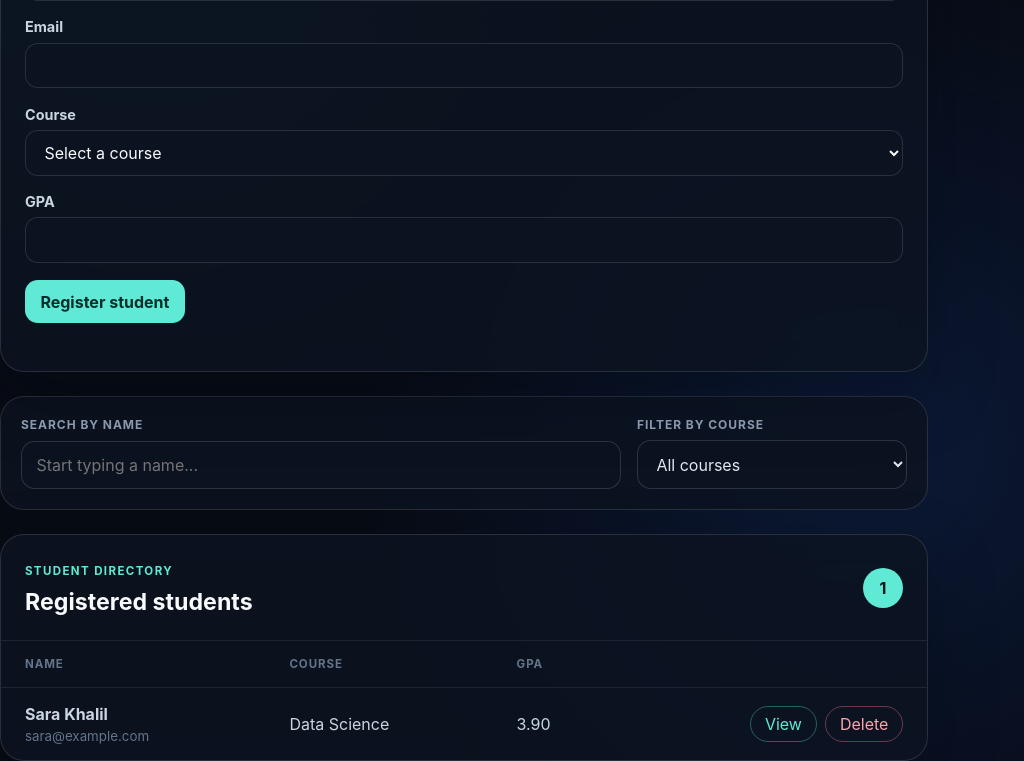
StudentDashboard › loads saved students and opens their details modal
This screenshot has width=1024, height=761.
(page scrolled)
Click the button with aria-label "View Sara Khalil" at (783, 724), box [750, 706, 816, 742]
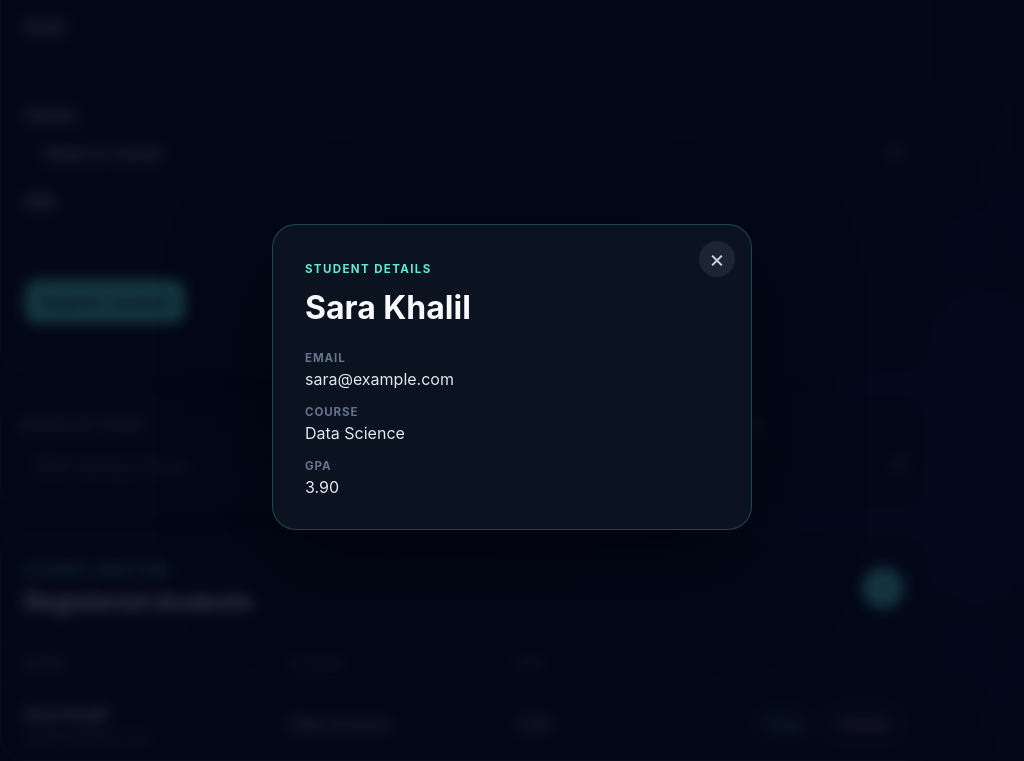
expect the dialog shows "Sara Khalil": met, box [305, 288, 471, 327]
expect the dialog shows "sara@example.com": met, box [305, 369, 454, 389]
Click the button named "Close student details" at (717, 259), box [699, 241, 735, 277]
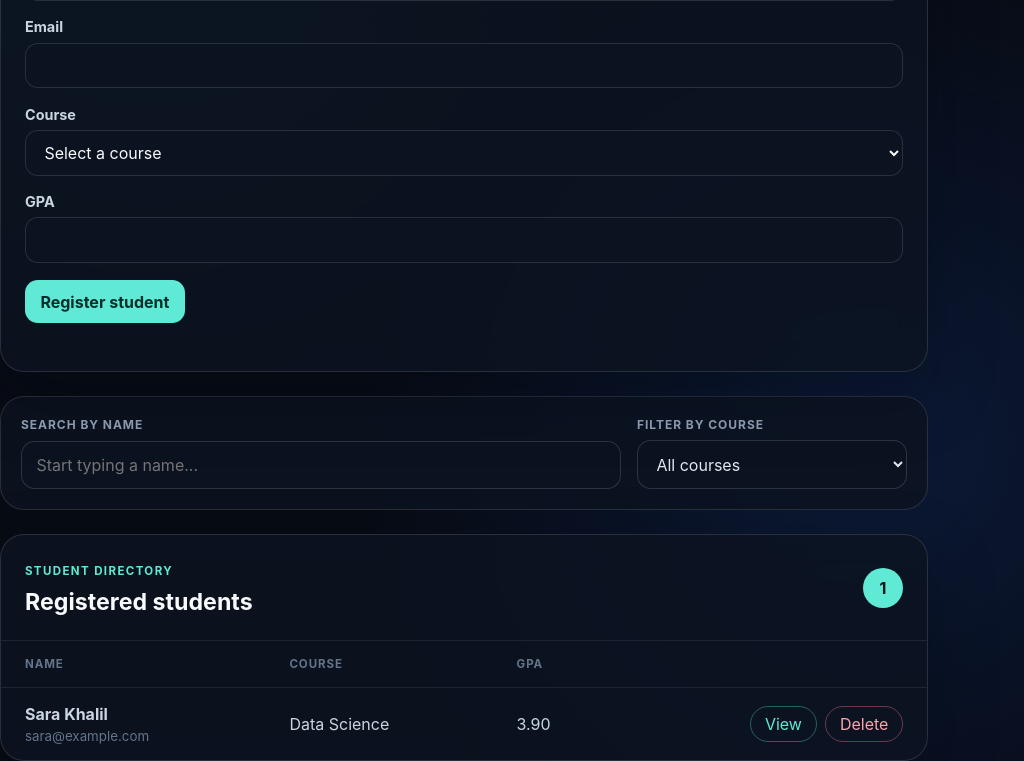
expect the dialog is gone: met
